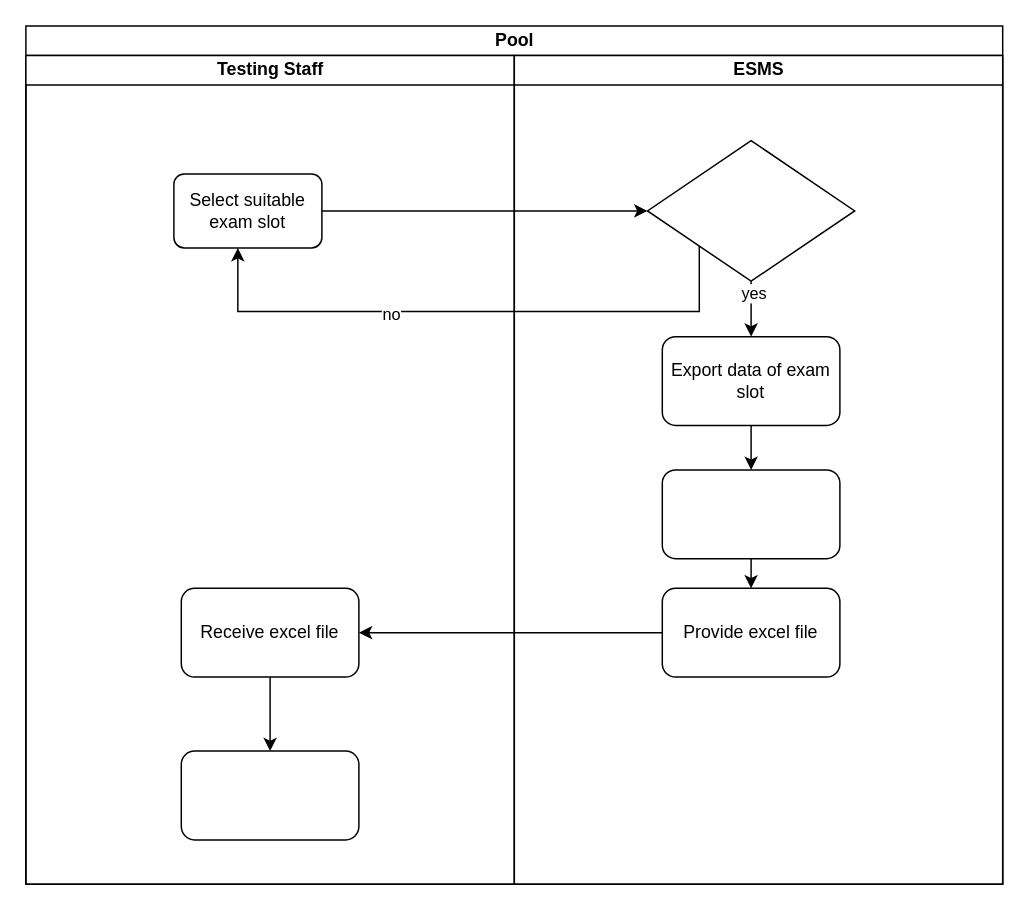
The diagram is 1029 pixels wide and 910 high, and some of its shapes have lost their labels. The shapes that lost their labels are listed below. From the top down, each one's centre as x and y in pixels, then its label:
At point (750, 210): "Check availability of exam slot of the day".
At point (750, 513): "Genarate excel file".
At point (269, 795): "Print it for lecture".
